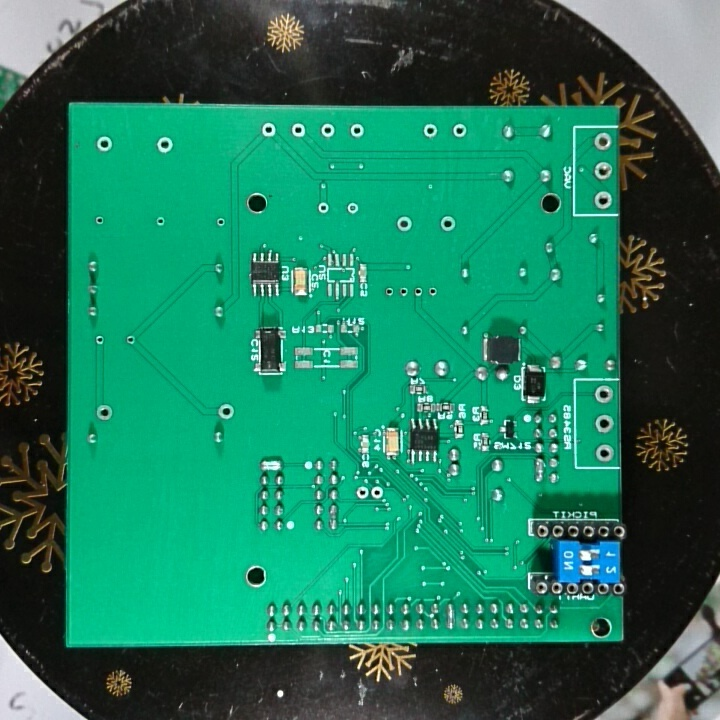F: (594, 441, 618, 464), (215, 400, 238, 423), (592, 158, 614, 182), (591, 131, 614, 153), (393, 213, 416, 235), (594, 411, 616, 434), (92, 402, 116, 423), (448, 120, 472, 141), (592, 384, 614, 406), (593, 188, 614, 210), (153, 135, 176, 155), (438, 213, 459, 234), (94, 134, 114, 156), (257, 120, 279, 140), (288, 120, 309, 140), (420, 120, 440, 141), (314, 198, 334, 218), (318, 120, 337, 140), (348, 121, 367, 140), (354, 483, 371, 503), (371, 483, 385, 505), (344, 199, 361, 217), (92, 332, 109, 349), (152, 212, 167, 231), (397, 283, 411, 303), (92, 212, 108, 229), (382, 283, 397, 300), (123, 332, 138, 348), (412, 282, 425, 300), (426, 283, 439, 300), (214, 215, 228, 229)
P: (444, 599, 458, 634), (531, 455, 548, 483), (326, 502, 341, 532), (259, 457, 285, 473)
